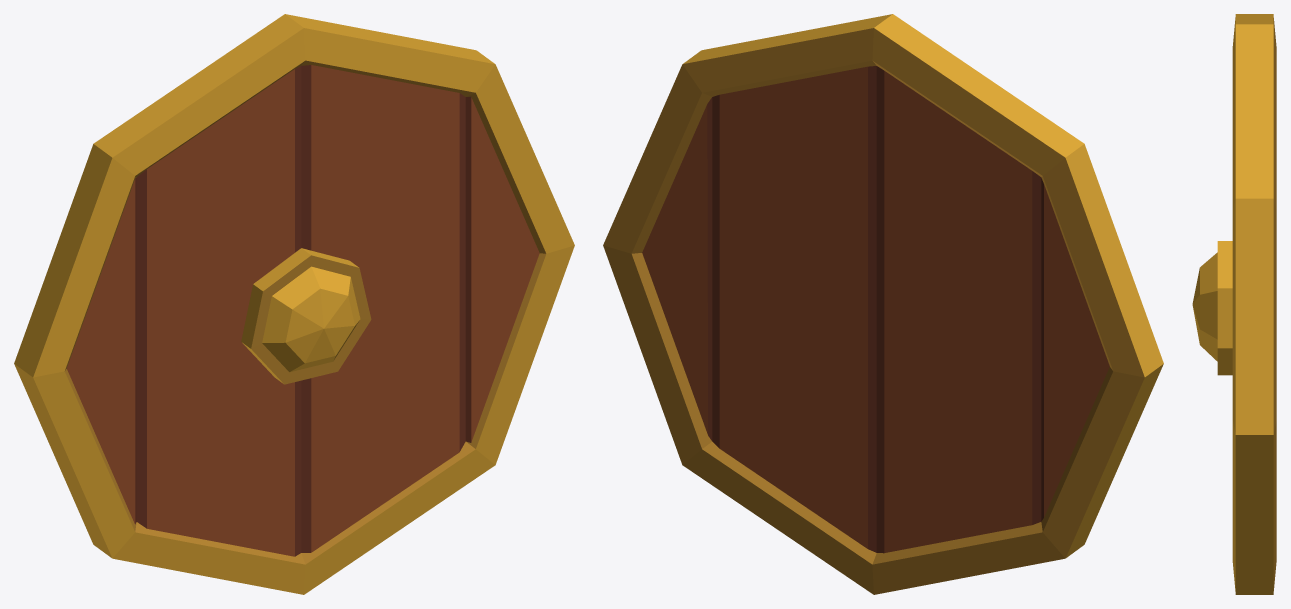
File: SM_RoundShield_B.fbx
The picture shows the model from 3 angles, left to right: view 1: azimuth 30°, elevation 25°; view 2: azimuth 150°, elevation 25°; view 3: azimuth 270°, elevation 25°; orthographic projection.
Visible parts, largest first — view 1: SM_RoundShield_B; view 2: SM_RoundShield_B; view 3: SM_RoundShield_B.
Part boxes in pixels (x1,y1,x2,y2): SM_RoundShield_B: [14, 14, 574, 594]; SM_RoundShield_B: [603, 14, 1163, 594]; SM_RoundShield_B: [1192, 14, 1276, 594].
Bounding box in the file's own units: 0.8689 × 0.8689 × 0.1181.
